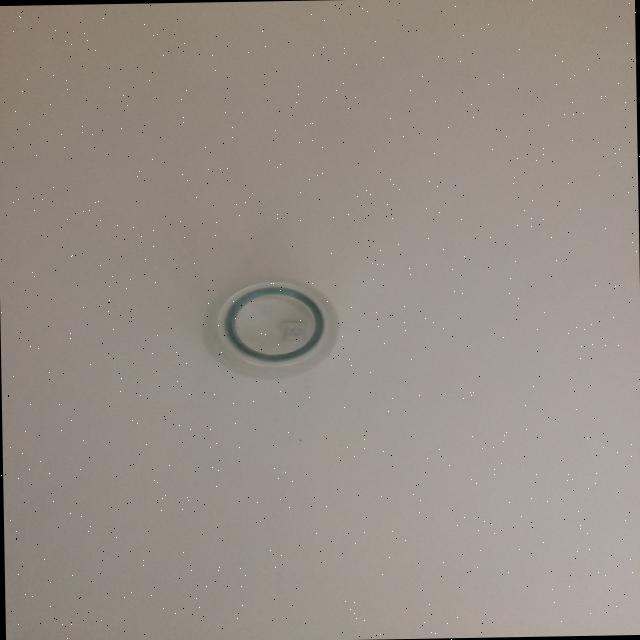glass: (203, 274, 345, 379)
